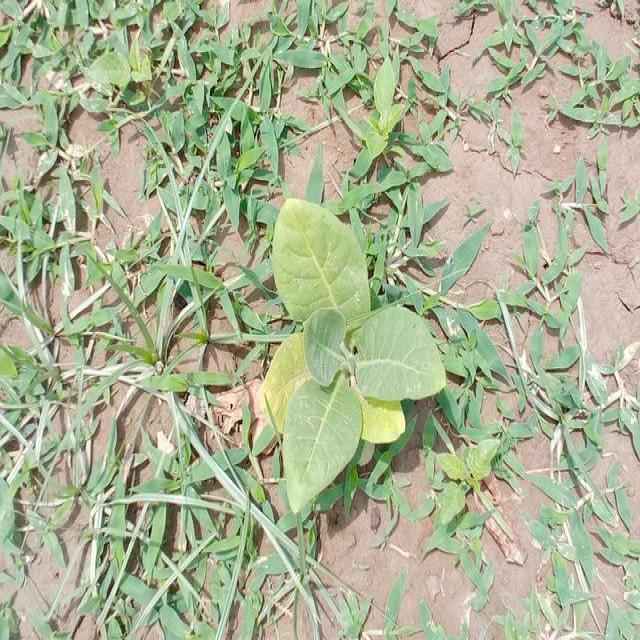crop: (270, 198, 440, 498)
